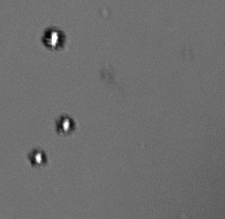Living Cell: (42, 27, 64, 49), (56, 114, 75, 134), (29, 150, 47, 167)
